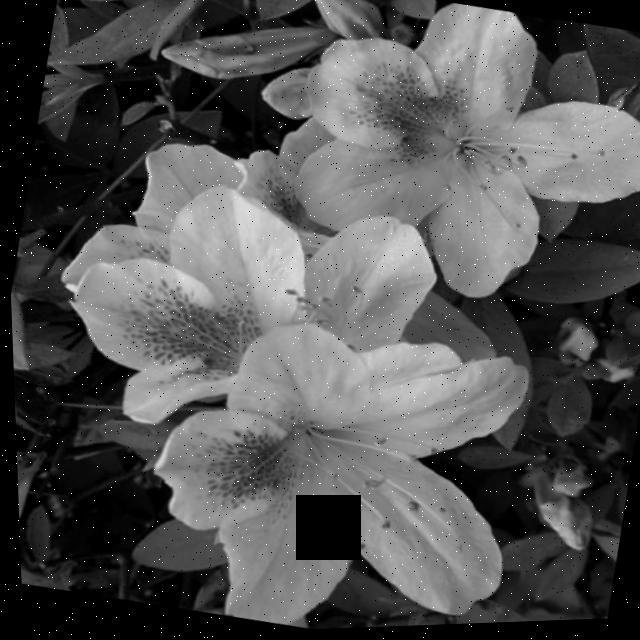azalea: (133, 296, 554, 636), (255, 0, 640, 314), (56, 168, 441, 468)
